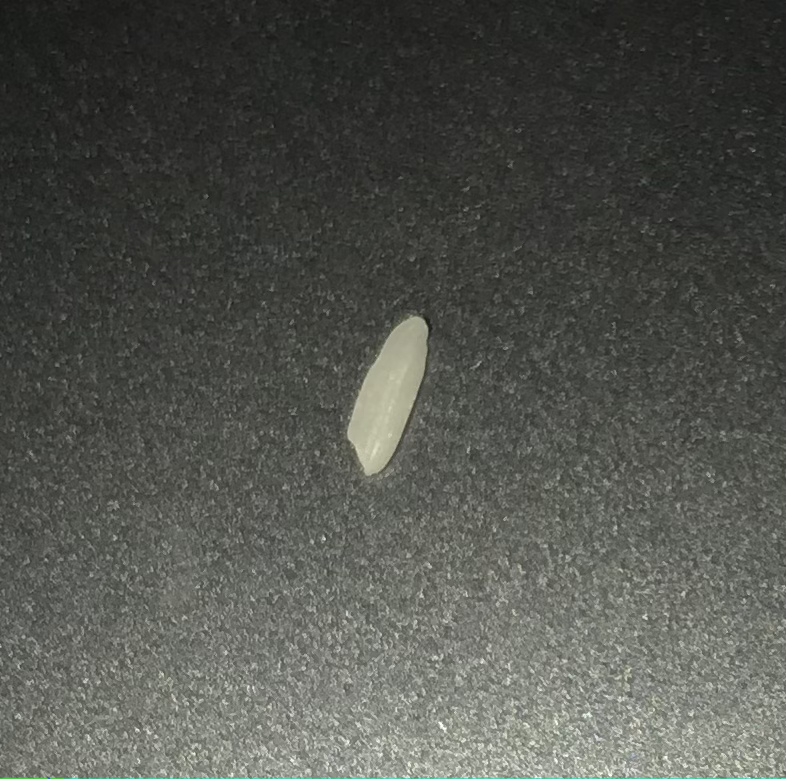Gao Tam Thom: (334, 307, 454, 493)
